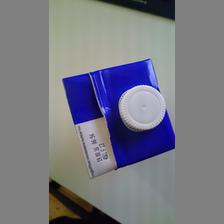Milch: (56, 57, 180, 182)
